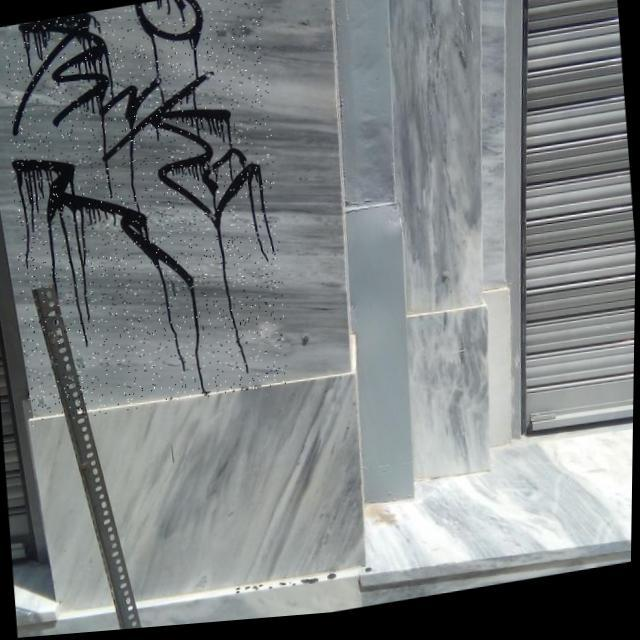-: (0, 0, 295, 429)
